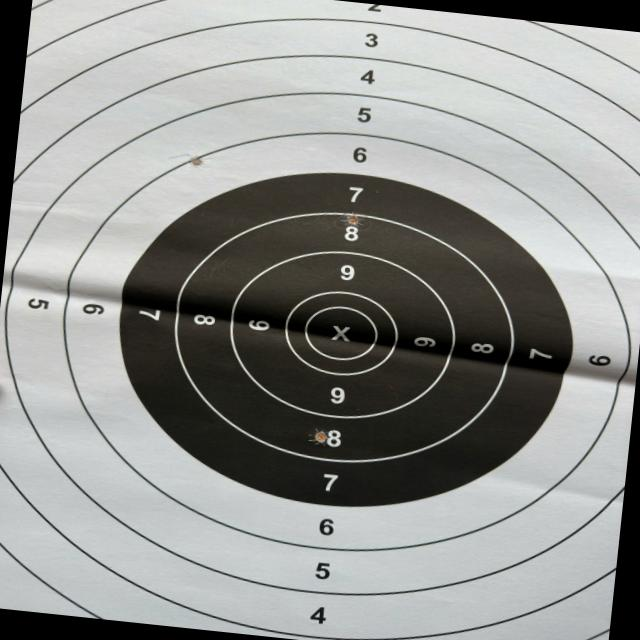bullet: (343, 214, 363, 226), (312, 428, 327, 441), (192, 154, 203, 166)
target: (0, 0, 640, 640)
